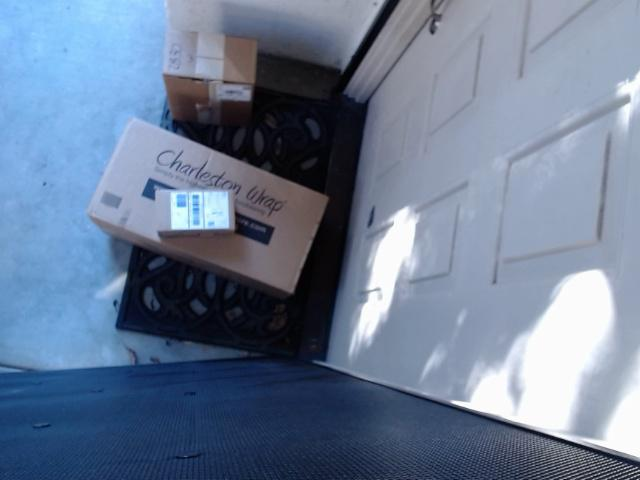box: (85, 117, 329, 299), (162, 29, 258, 126), (154, 187, 236, 237)
